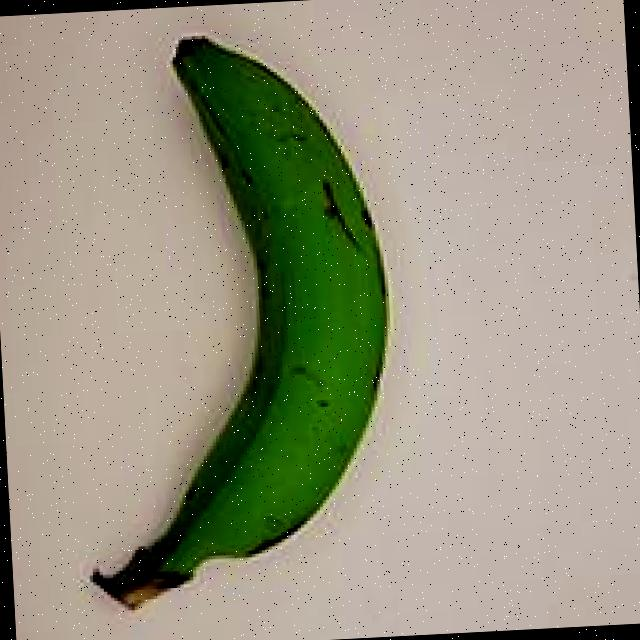Raw: (38, 9, 425, 640)
